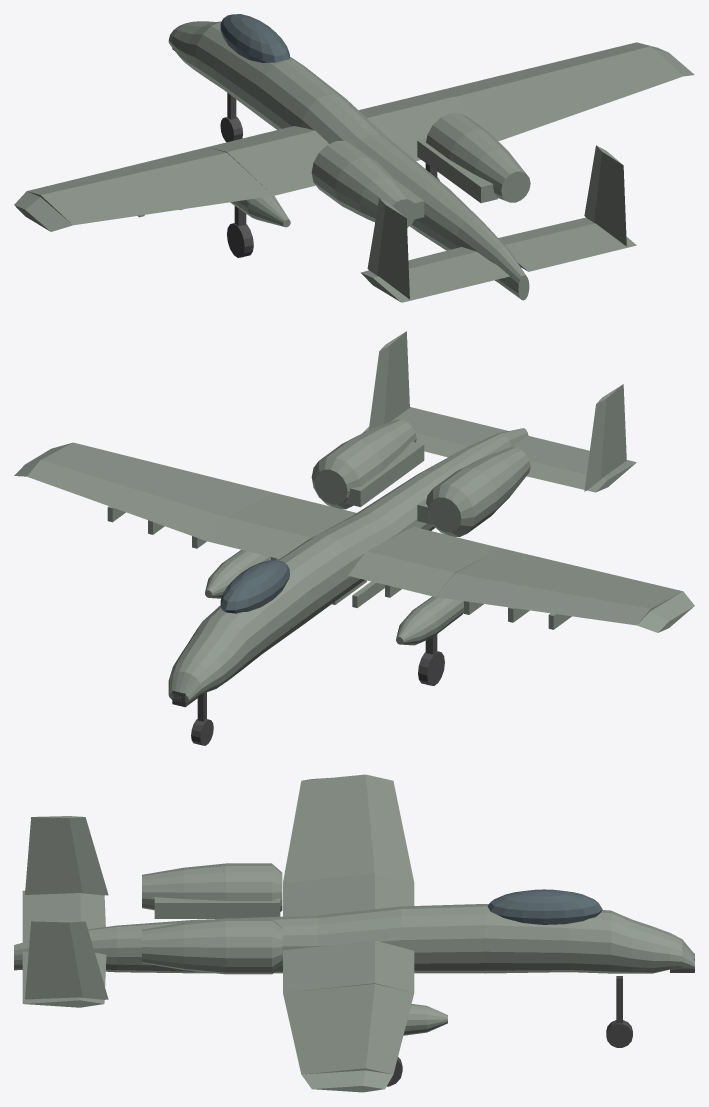
The picture shows the model from 3 angles, top to bottom: view 1: azimuth 30°, elevation 25°; view 2: azimuth 150°, elevation 25°; view 3: azimuth 270°, elevation 25°; orthographic projection.
Visible parts, largest first — view 1: Fuselage, Wing_R, Wing_L, Nacelle_L, WingInner_L, Nacelle_R, Tailplane_R, Tailplane_L, WingInner_R, Fin_R, Fin_L, Canopy (+5 smaller); view 2: Fuselage, Wing_R, Wing_L, WingInner_L, Nacelle_L, WingInner_R, Nacelle_R, Tailplane_L, Fin_L, Fin_R, Tailplane_R, Canopy (+5 smaller); view 3: Fuselage, Wing_L, Wing_R, Nacelle_R, WingInner_R, Fin_L, Fin_R, Nacelle_L, WingInner_L, Canopy, Tailplane_L, NacelleFairing_L (+4 smaller).
Boxes of the visible parts, box(x1,y1,x2,y2) form: Fuselage: box(168, 21, 529, 300); Wing_R: box(435, 42, 682, 140); Wing_L: box(27, 147, 273, 225); Nacelle_L: box(311, 140, 416, 227); WingInner_L: box(207, 126, 328, 195); Nacelle_R: box(426, 113, 530, 202); Tailplane_R: box(498, 217, 636, 271); Tailplane_L: box(361, 247, 509, 302); WingInner_R: box(358, 91, 500, 160); Fin_R: box(584, 145, 626, 246); Fin_L: box(367, 198, 409, 299); Canopy: box(220, 14, 289, 62); Fuselage: box(168, 428, 528, 702); Wing_R: box(27, 442, 273, 541); Wing_L: box(435, 548, 682, 625); WingInner_L: box(348, 526, 500, 596); Nacelle_L: box(426, 447, 530, 537); WingInner_R: box(207, 492, 356, 558); Nacelle_R: box(311, 419, 416, 509); Tailplane_L: box(512, 436, 636, 492); Fin_L: box(584, 384, 626, 491); Fin_R: box(368, 331, 409, 429); Tailplane_R: box(362, 407, 508, 457); Canopy: box(220, 560, 289, 613); Fuselage: box(14, 904, 694, 973); Wing_L: box(283, 774, 414, 882); Wing_R: box(283, 984, 414, 1074); Nacelle_R: box(142, 918, 282, 974); WingInner_R: box(283, 940, 414, 992); Fin_L: box(25, 816, 108, 895); Fin_R: box(25, 920, 108, 999); Nacelle_L: box(142, 863, 282, 911); WingInner_L: box(283, 873, 414, 916); Canopy: box(487, 889, 602, 924); Tailplane_L: box(22, 890, 105, 942); NacelleFairing_L: box(154, 897, 280, 918).
Size of the model in its own units: 17.52 by 4.46 by 16.26.
